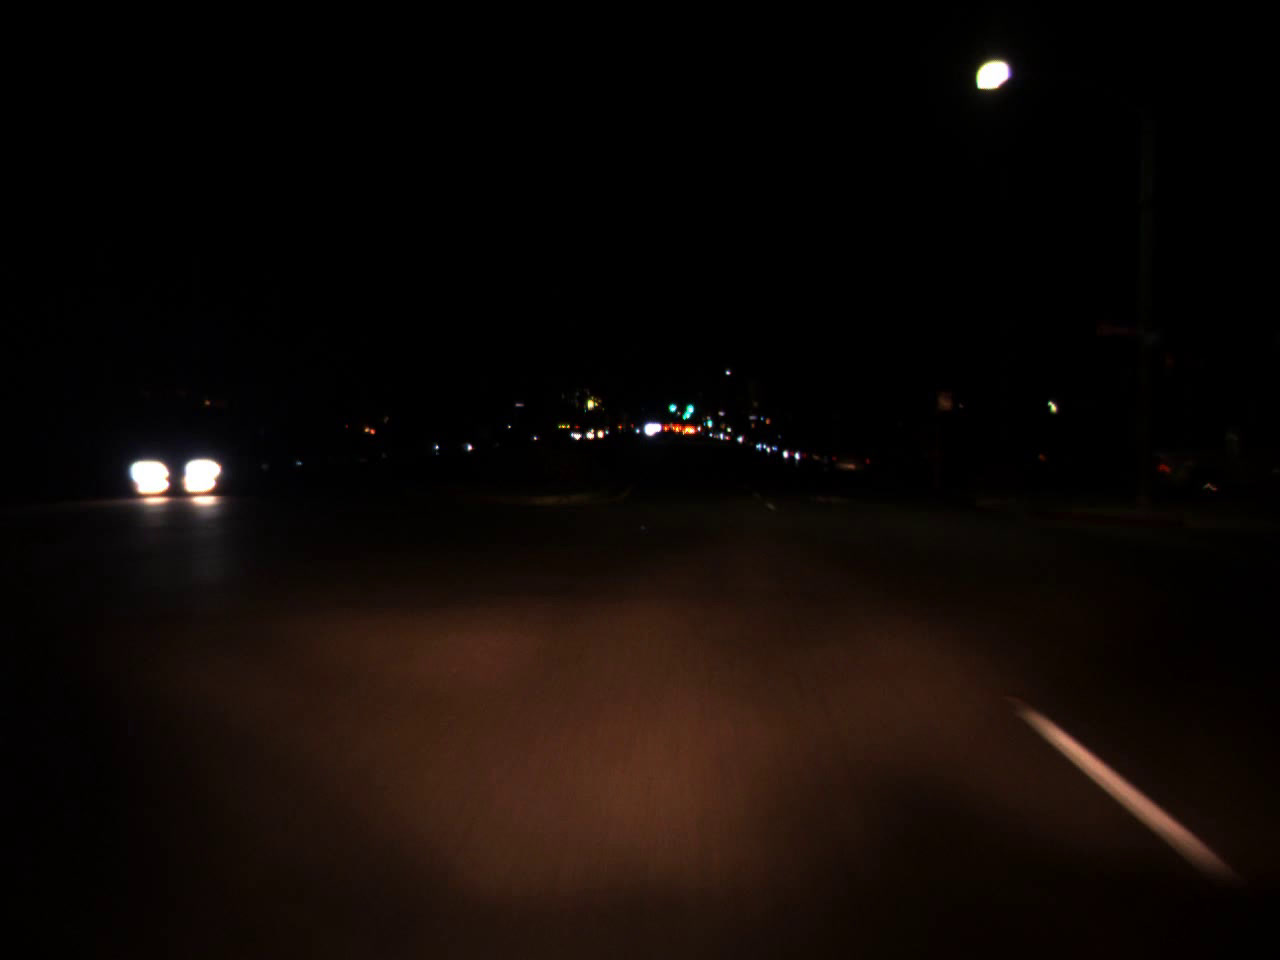go: (681, 393, 695, 417), (667, 396, 677, 414), (706, 413, 713, 428)
